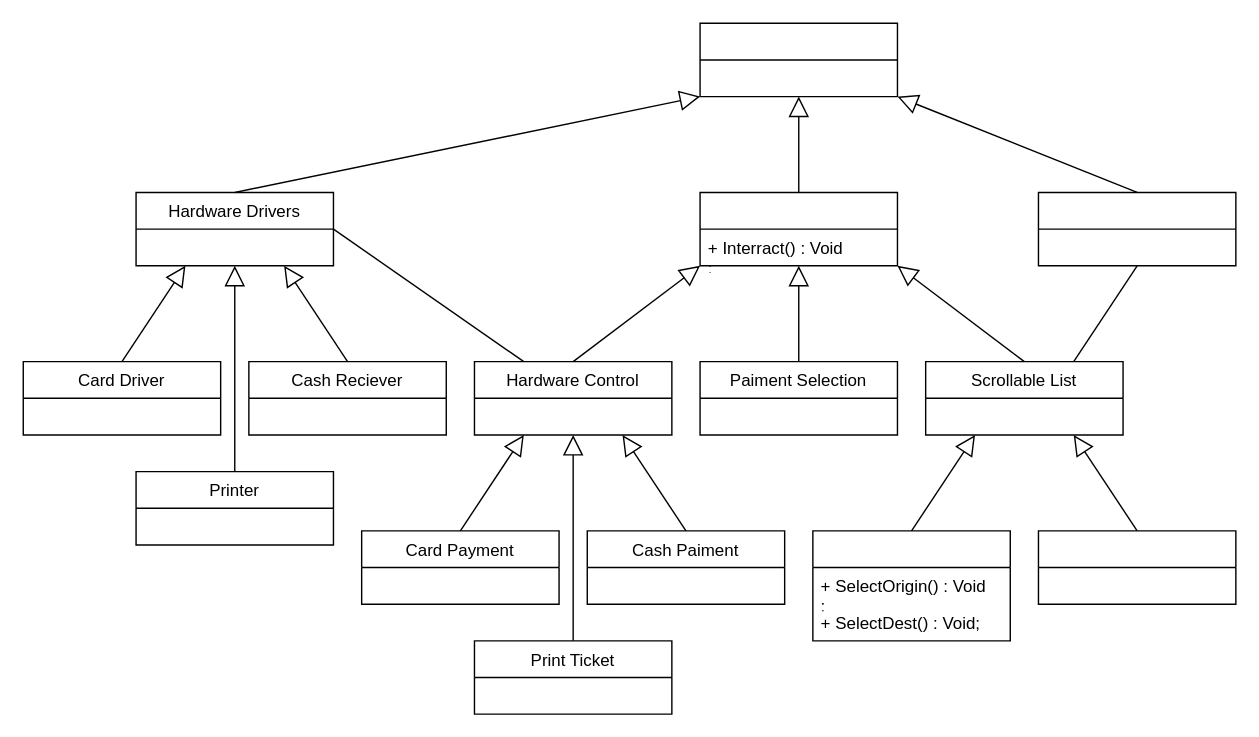
Image size: 1259x737. Some labels were removed from this diagram. Each missing label, with the box of its shape:
Data Base Access: (1037, 191, 1236, 266)
Generic Object: (699, 22, 897, 97)
GUI screen: (699, 191, 897, 266)
Places: (811, 529, 1010, 641)
Trains: (1037, 529, 1236, 604)
